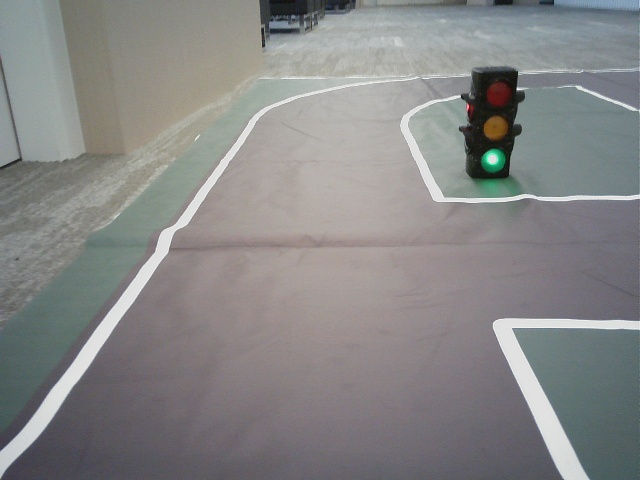green: (475, 74, 517, 177)
